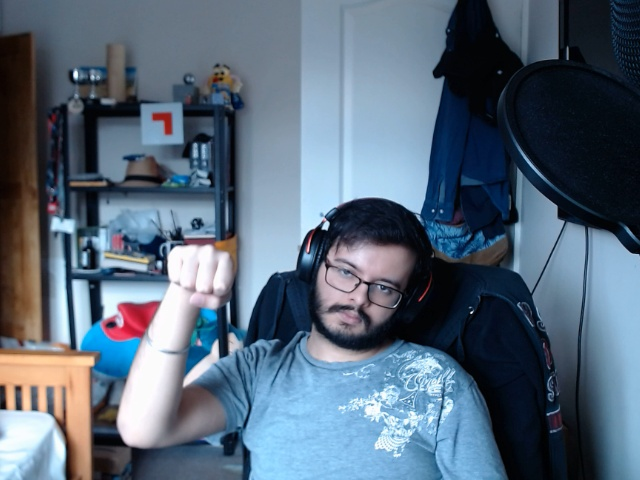Yes: (160, 240, 243, 311)
